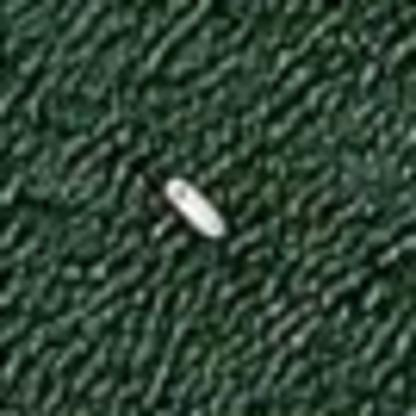ship: (153, 165, 233, 244)
